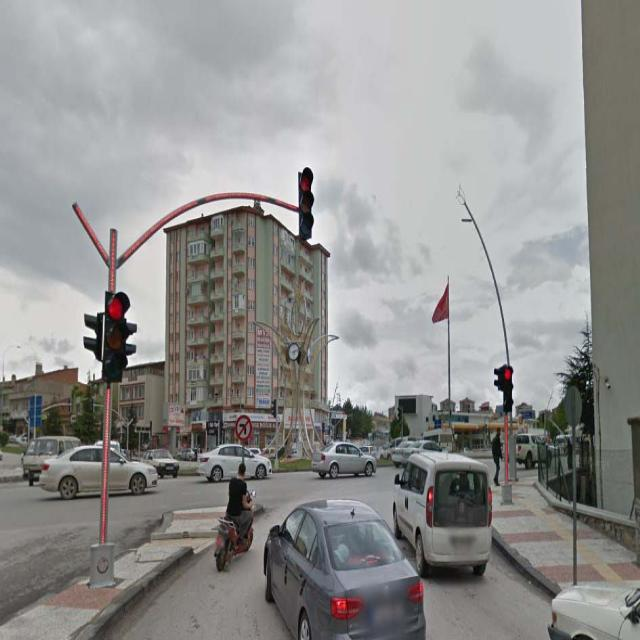kirmizi: (104, 292, 126, 382), (298, 169, 313, 239), (503, 364, 514, 409)
soladonulmez: (236, 414, 250, 440)
